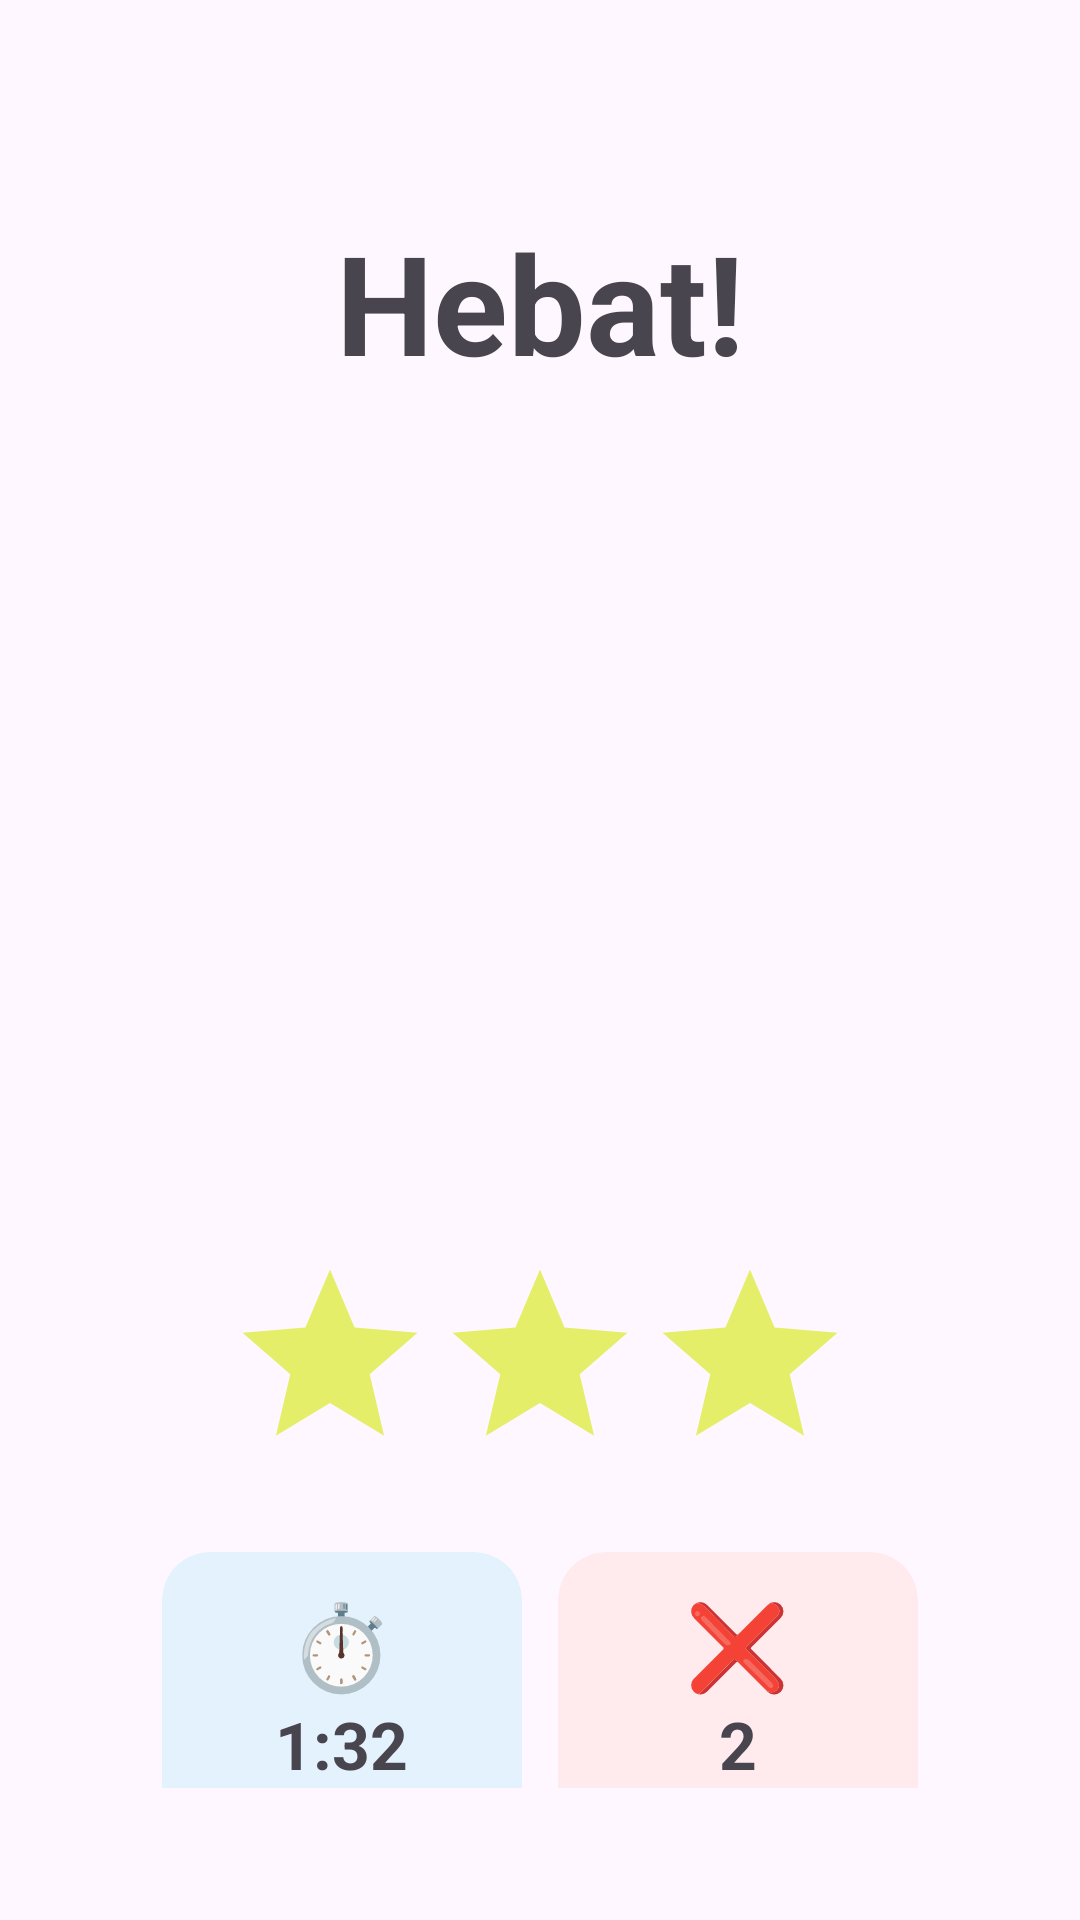

Icon click points for this 1080×1920 phone screenshot, format [x,y]:
star: [330,1353], [540,1353], [750,1353]
